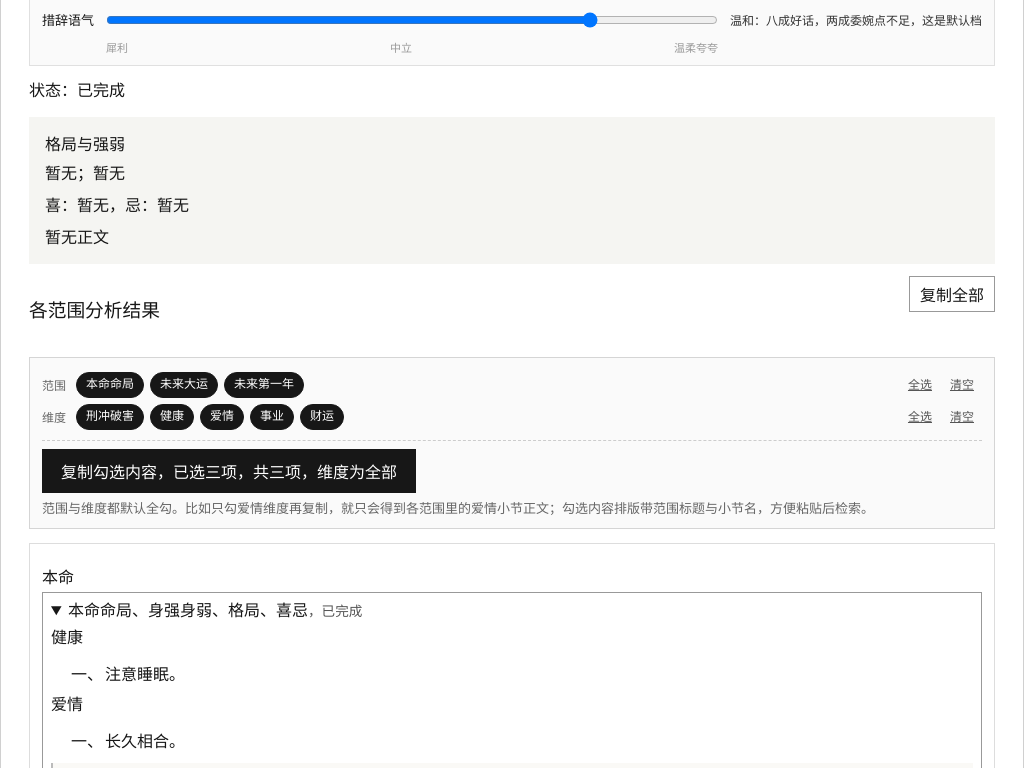
Test: 复制项数必须跟着维度筛选走 › 反向钉子：只按范围取消一节时，项数确实跟着减(证明上面的读数不是恒三项)
(page scrolled)
Check: the button "复制勾选内容" is shown, box [42, 449, 416, 493]
What coordinates should you click on to do the following:
click the button "未来大运"
I would click on:
 (184, 385)
Its box is [150, 372, 218, 398].
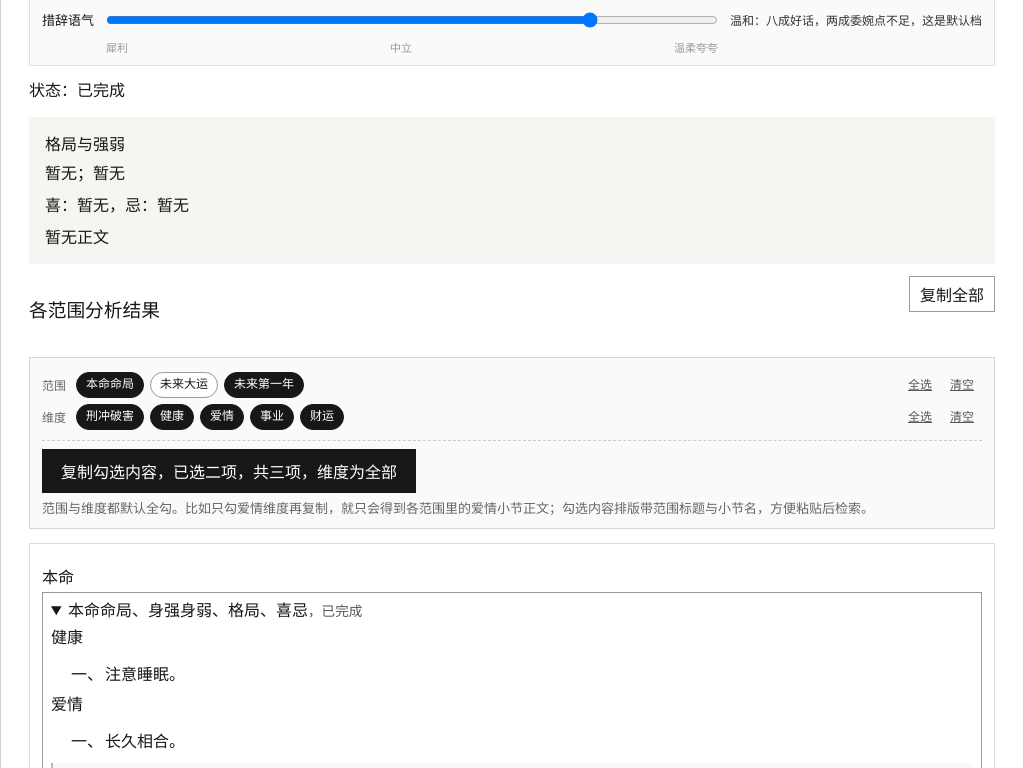
What coordinates should you click on to do the following:
click the button "复制勾选内容"
I would click on:
 (229, 471)
Its box is [42, 449, 416, 493].
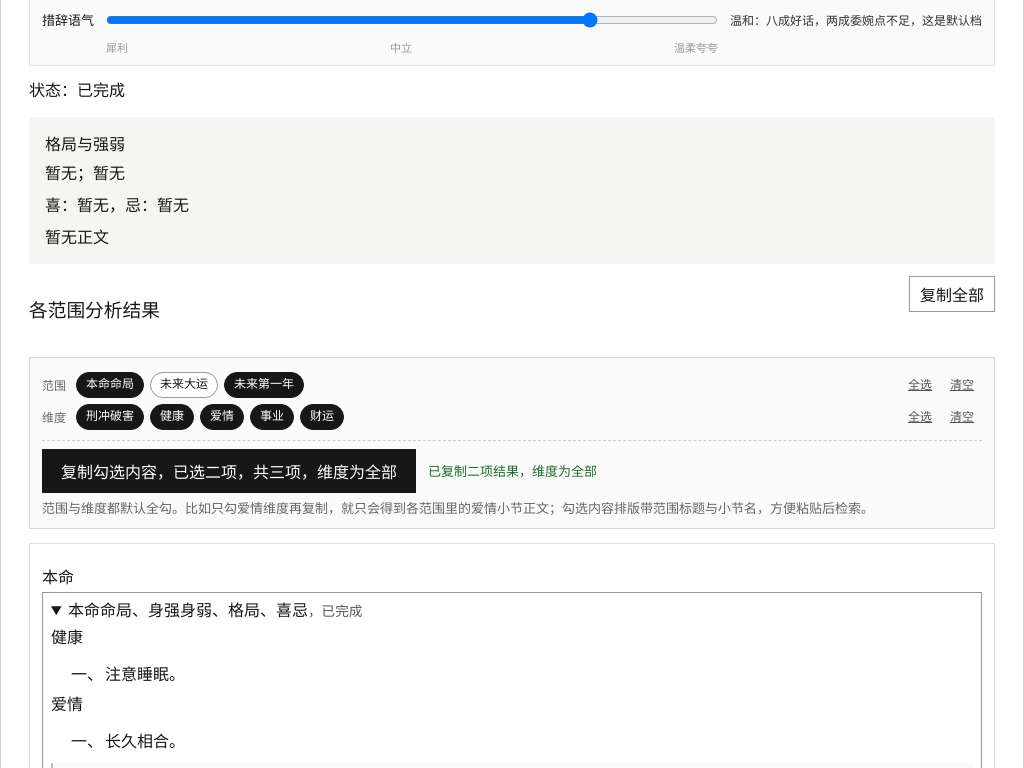
Check: the button "复制勾选内容" shows "已选二项", box [42, 449, 416, 493]
Check: the 2nd message shows "已复制二项结果", box [428, 464, 597, 479]
